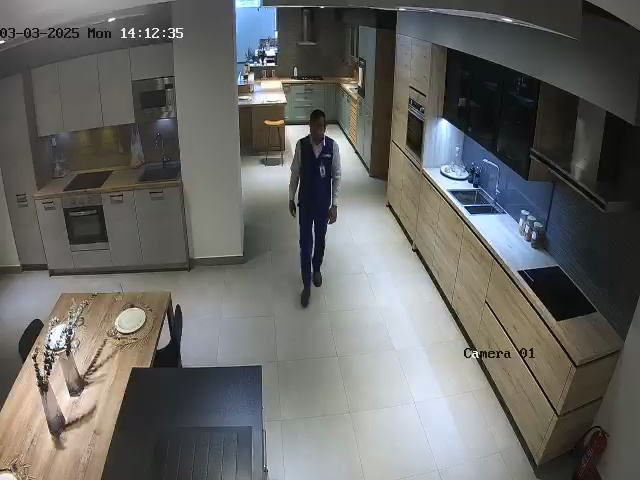employee: (288, 109, 342, 309)
